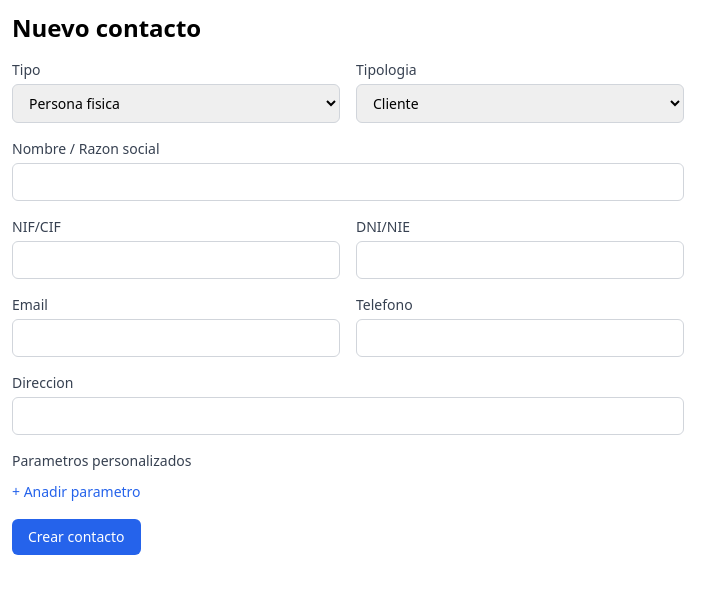
it: NuevoContactoPage › shows API errors inline when contact creation fails
Step 1. Type "Ana Lopez" into the field named "nombre" below "Nombre / Razon social" → (348, 182), box [12,163,684,201]
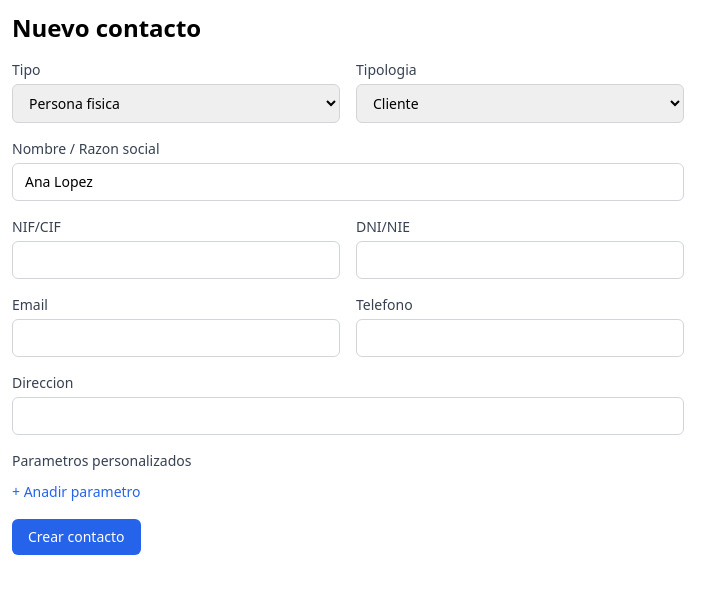
Step 2. Click the button "Crear contacto" → click(76, 537), box [12,519,140,555]
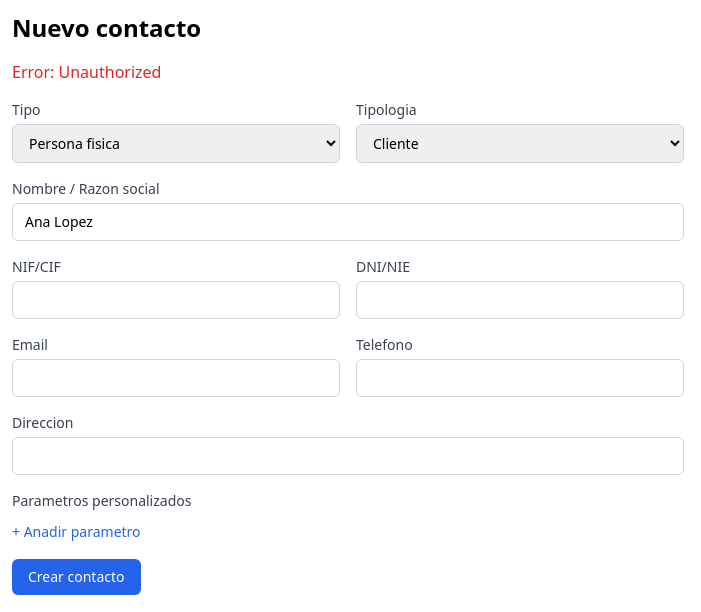
Result: the message reads "Error: Unauthorized" at [12,61,162,83]
